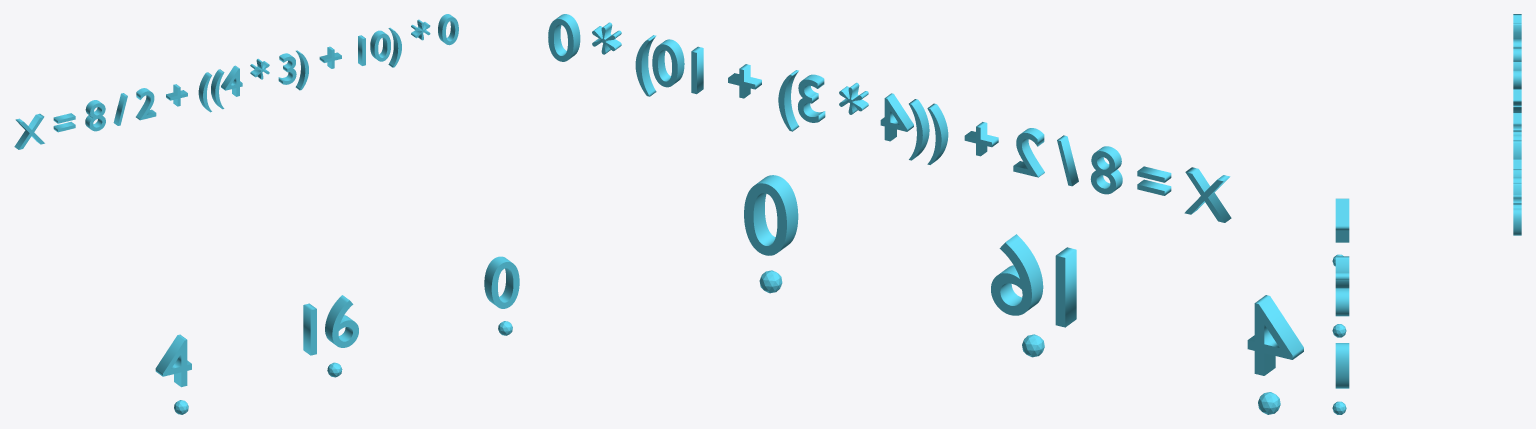
The model's file is console_test_005.fbx.
3 views of the same model, side by side, from view 1: azimuth 30°, elevation 25°; view 2: azimuth 150°, elevation 25°; view 3: azimuth 270°, elevation 25° (orthographic). The views are drawn at different scales.
Visible parts, largest first — view 1: Txt_Test_01.015, Failure.018, Failure.019, Success.040; view 2: Txt_Test_01.015, Failure.018, Failure.019, Success.040; view 3: Txt_Test_01.015, Failure.018, Failure.019, Success.040.
Part boxes in pixels (x1,y1,x2,y2): Txt_Test_01.015: (14, 14, 458, 149); Failure.018: (303, 295, 358, 355); Failure.019: (484, 256, 519, 308); Success.040: (155, 334, 191, 387); Txt_Test_01.015: (548, 14, 1231, 222); Failure.018: (991, 234, 1076, 327); Failure.019: (744, 175, 798, 255); Success.040: (1247, 295, 1303, 375); Txt_Test_01.015: (1513, 14, 1521, 235); Failure.018: (1335, 256, 1349, 316); Failure.019: (1335, 343, 1349, 388); Success.040: (1335, 198, 1349, 242).
Size of the model in its own units: 1.67 by 0.8757 by 0.6691.
